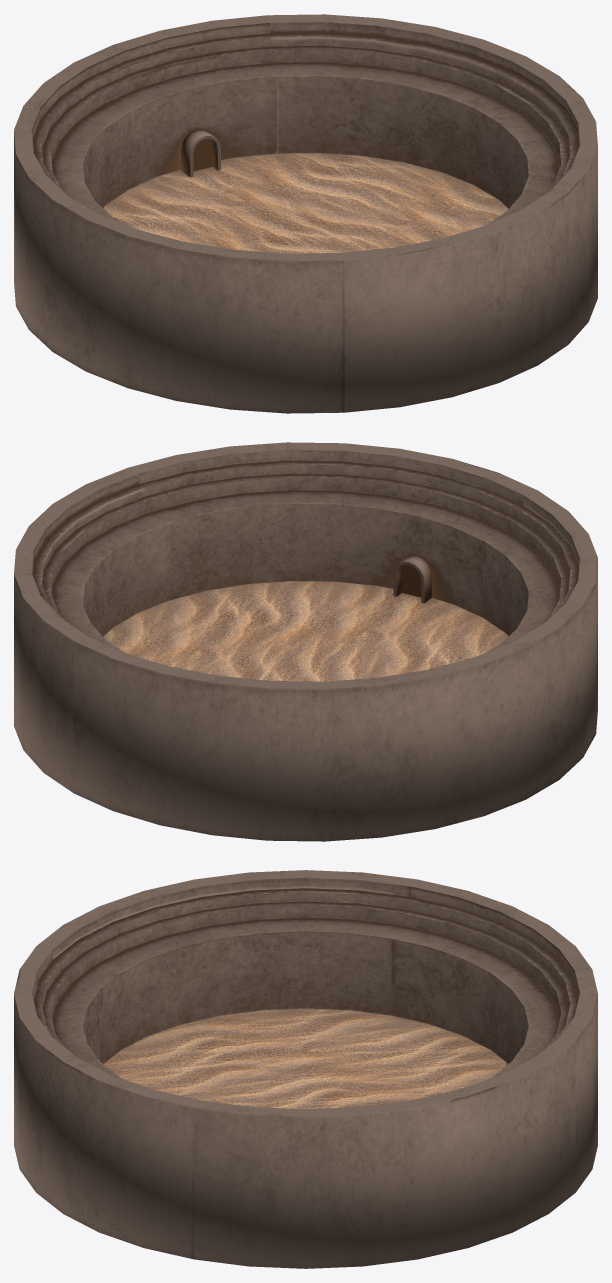
The model's file is arena.gltf.
The picture shows the model from 3 angles, top to bottom: view 1: azimuth 30°, elevation 25°; view 2: azimuth 150°, elevation 25°; view 3: azimuth 270°, elevation 25°; orthographic projection.
Visible parts, largest first — view 1: Circle; view 2: Circle; view 3: Circle.
Part boxes in pixels (left/top/right/bottom): Circle: left=14, top=14, right=597, bottom=413; Circle: left=14, top=442, right=597, bottom=841; Circle: left=14, top=870, right=597, bottom=1268.
Size of the model in its own units: 30.36 by 8.72 by 30.36.
Materials: 4 (4 with a texture image).
